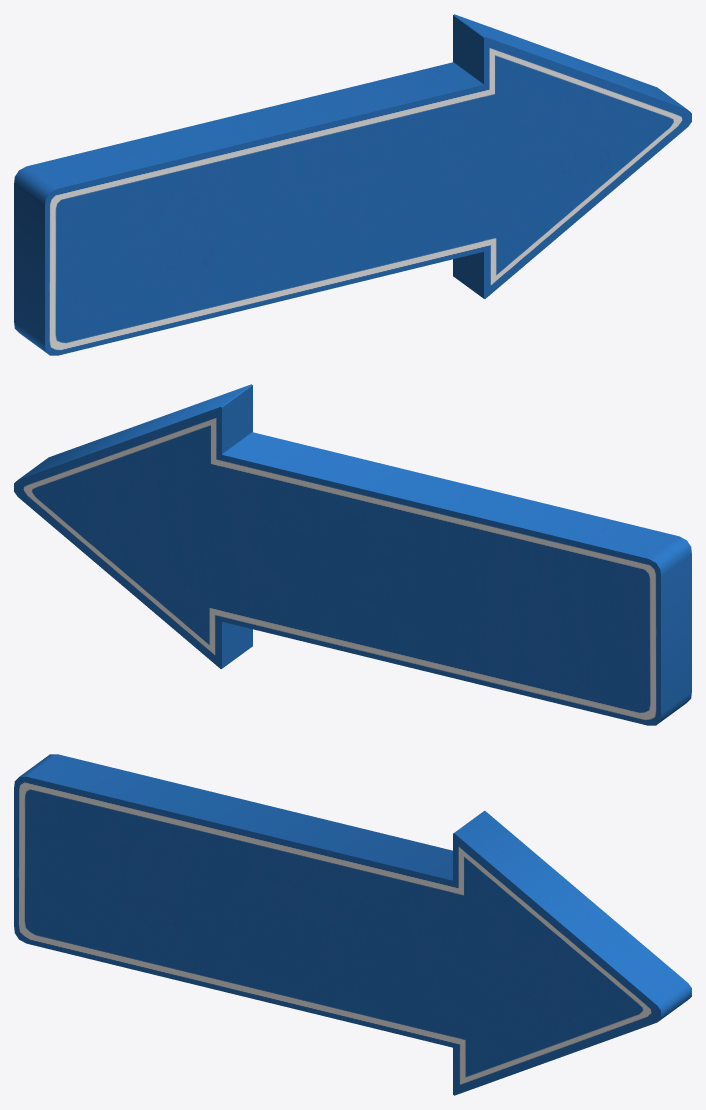
The model's file is Arrow5.obj.
3 renders of one model, top to bottom at view 1: azimuth 30°, elevation 25°; view 2: azimuth 150°, elevation 25°; view 3: azimuth 330°, elevation 25°, orthographic.
Parts seen in each view (by area): view 1: Arrow5; view 2: Arrow5; view 3: Arrow5.
Part boxes in pixels (left/top/right/bottom): Arrow5: left=14, top=14, right=691, bottom=355; Arrow5: left=14, top=384, right=691, bottom=725; Arrow5: left=14, top=754, right=691, bottom=1095.
Size of the model in its own units: 12.12 by 4.7 by 1.
